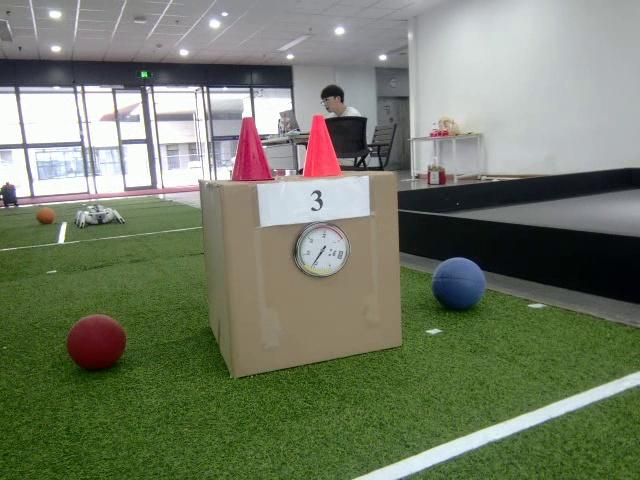3: (308, 191, 327, 212)
Dashboard: (294, 223, 351, 278)
blue_ball: (435, 257, 486, 310)
orange_barrel: (297, 117, 342, 178)
red_ball: (66, 316, 127, 368)
red_barrel: (235, 115, 276, 181)
ssi: (337, 249, 345, 261)
